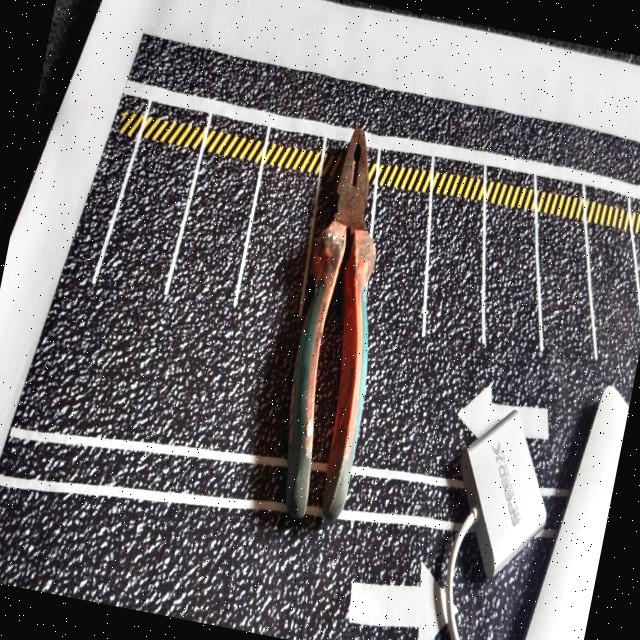others: (286, 129, 369, 518), (525, 387, 629, 640), (323, 230, 375, 518), (461, 411, 546, 577), (286, 279, 327, 518), (445, 509, 476, 640), (335, 129, 369, 230), (354, 230, 375, 298), (322, 230, 344, 260)
slots: (99, 144, 198, 307), (169, 153, 258, 310), (238, 167, 317, 317), (425, 197, 482, 343), (485, 206, 539, 353), (539, 216, 593, 354), (369, 189, 428, 315), (589, 224, 640, 356)
